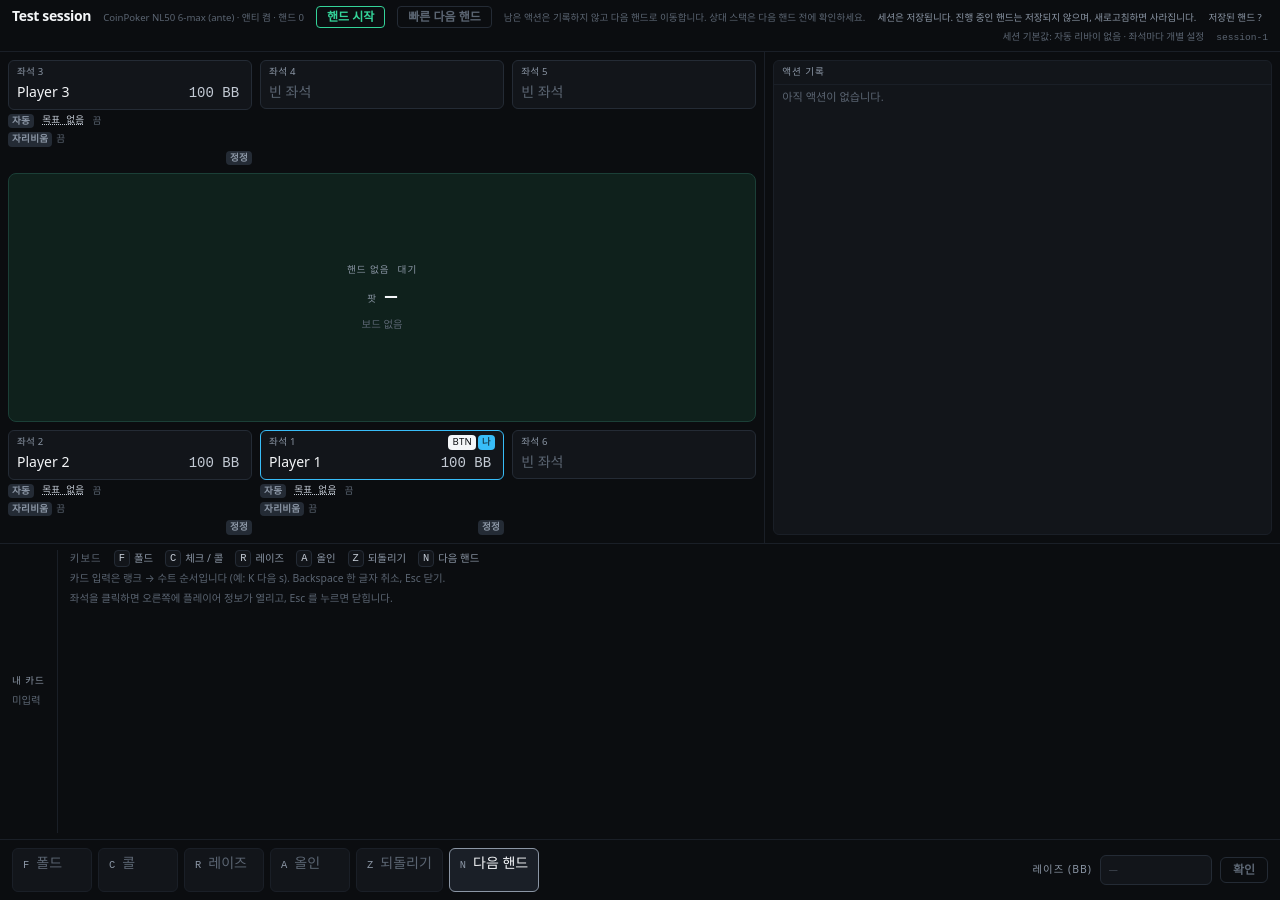
Scenario: TableRoot › shows a profile load failure instead of an empty panel
The image size is (1280, 900).
Click the button with test id "seat-2" at (130, 85), box [8, 60, 252, 110]
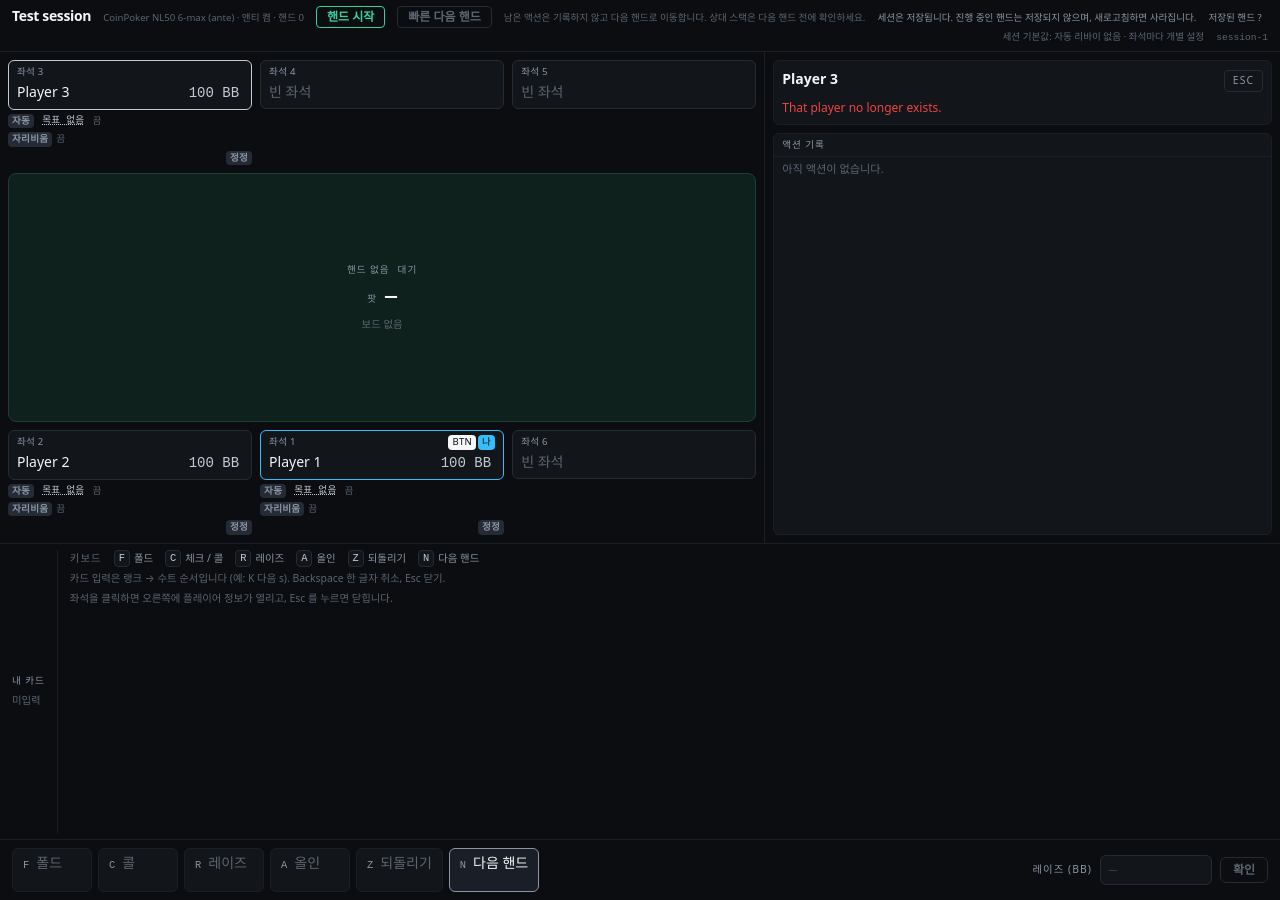
Result: the text with test id "profile-error" reads "That player no longer exists." at [782, 99, 942, 116]
